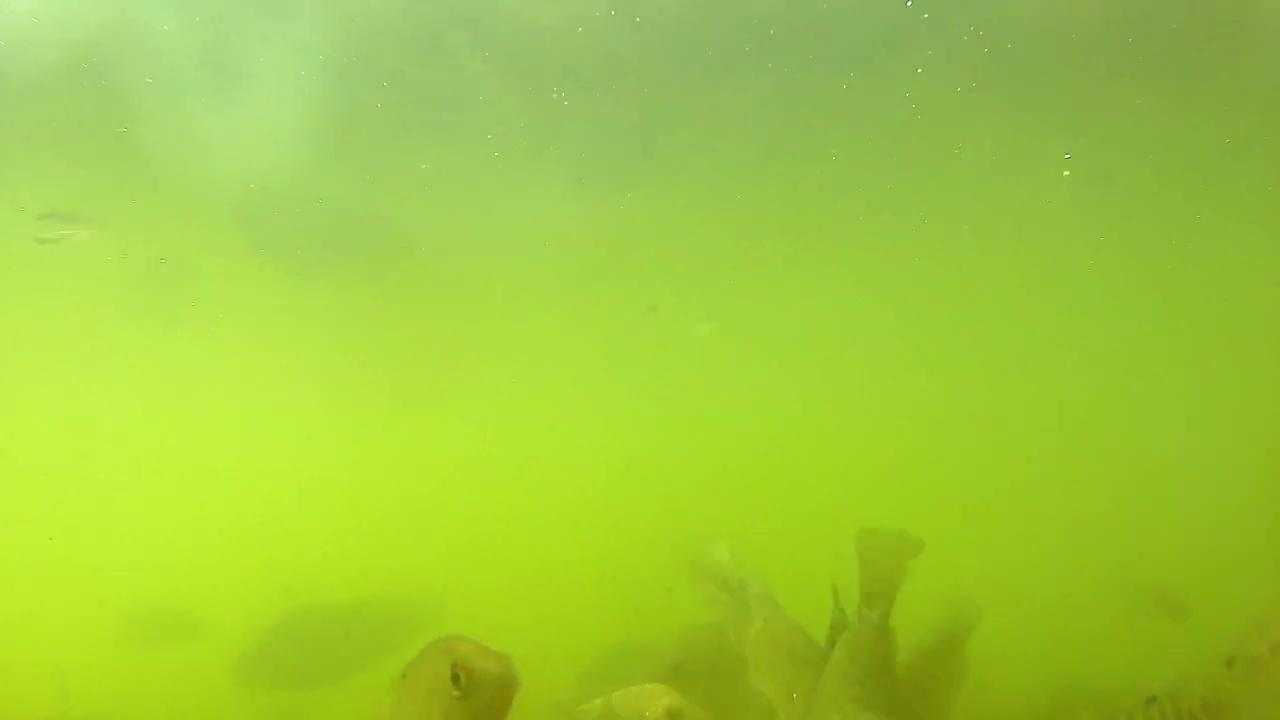Tilapia: (687, 538, 832, 720), (391, 634, 524, 720)
